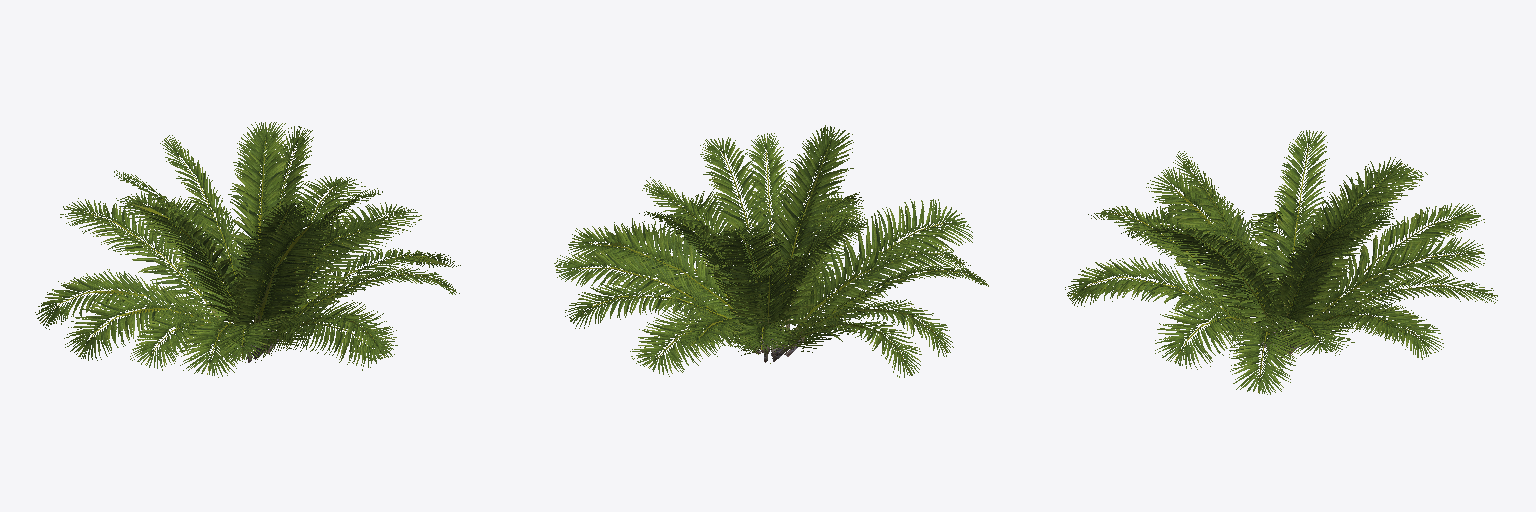
3 renders of one model, left to right at view 1: azimuth 30°, elevation 25°; view 2: azimuth 150°, elevation 25°; view 3: azimuth 270°, elevation 25°, orthographic.
Parts seen in each view (by area): view 1: Foliage; view 2: Foliage; view 3: Foliage.
Boxes of the visible parts, box(x1,y1,x2,y2) form: Foliage: box(35, 122, 460, 377); Foliage: box(554, 125, 988, 377); Foliage: box(1065, 130, 1497, 394).
Bounding box in the file's own units: 2.06 × 1 × 2.08.
Materials: 1 (1 with a texture image).